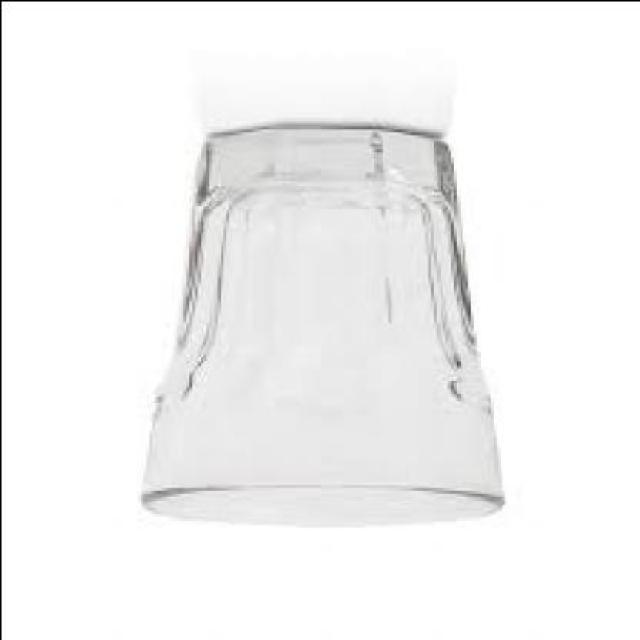glass: (137, 129, 500, 529)
